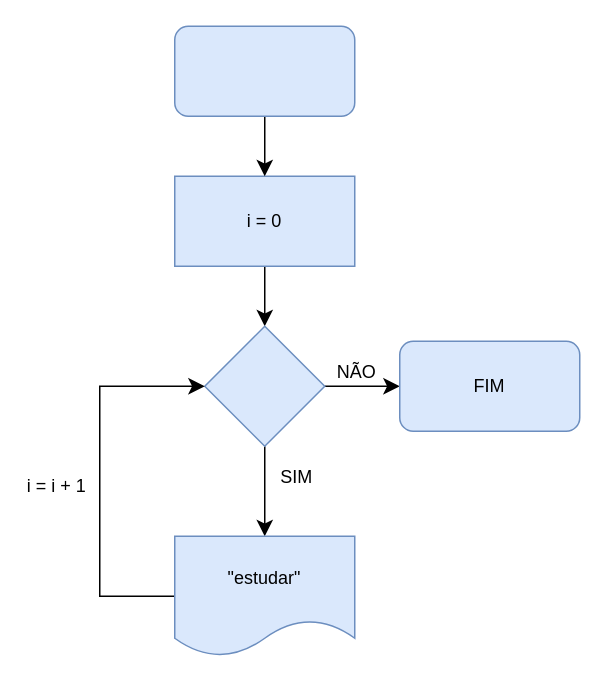
Image size: 606x683. Some labels were removed from this diagram. Here are the shapes that lost their labels. From the top down, the centre of each, then its label:
point 264,70: INÍCIO
point 264,385: i <= 5
